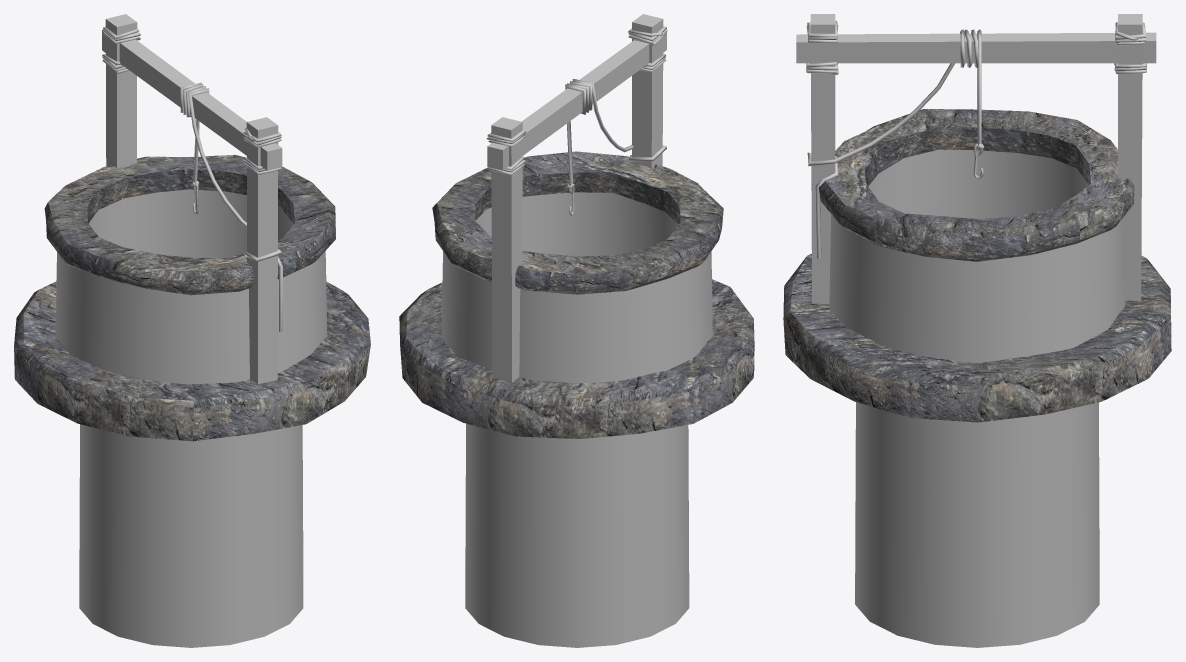
The model's file is mw_type_1_well_01.FBX.
3 views of the same model, side by side, from view 1: azimuth 30°, elevation 25°; view 2: azimuth 150°, elevation 25°; view 3: azimuth 270°, elevation 25° (orthographic). The views are drawn at different scales.
Visible parts, largest first — view 1: mw_well_02_stone, mw_well_02_wood, mw_well_02_rope; view 2: mw_well_02_stone, mw_well_02_wood, mw_well_02_rope; view 3: mw_well_02_stone, mw_well_02_wood, mw_well_02_rope.
Part boxes in pixels (x1,y1,x2,y2): mw_well_02_stone: [14, 154, 370, 647]; mw_well_02_wood: [102, 14, 282, 383]; mw_well_02_rope: [102, 27, 282, 331]; mw_well_02_stone: [399, 151, 754, 647]; mw_well_02_wood: [487, 14, 666, 382]; mw_well_02_rope: [486, 26, 667, 188]; mw_well_02_stone: [783, 109, 1171, 647]; mw_well_02_wood: [796, 14, 1156, 303]; mw_well_02_rope: [806, 20, 1146, 258].
Size of the model in its own units: 332 by 537 by 328.
